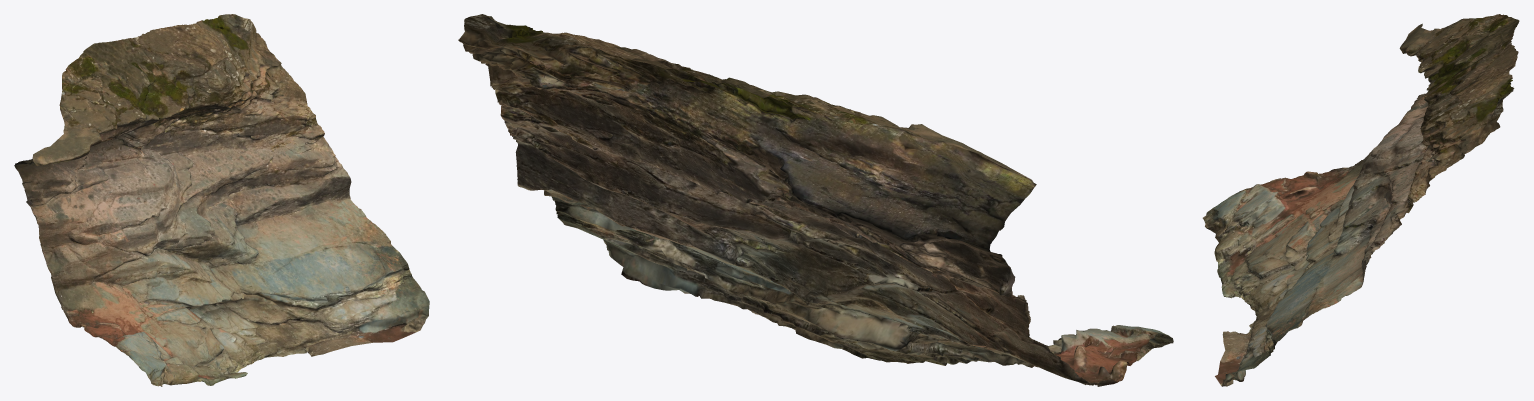
The model's file is rock_face_01.glb.
3 renders of one model, left to right at view 1: azimuth 30°, elevation 25°; view 2: azimuth 150°, elevation 25°; view 3: azimuth 270°, elevation 25°, orthographic. The views are drawn at different scales.
Visible parts, largest first — view 1: rock_face_01; view 2: rock_face_01; view 3: rock_face_01.
Part boxes in pixels (x1,y1,x2,y2): rock_face_01: (14, 14, 429, 386); rock_face_01: (458, 14, 1173, 386); rock_face_01: (1202, 14, 1519, 386).
Bounding box in the file's own units: 4.95 × 3.56 × 3.83.
1 material, 1 textured.
